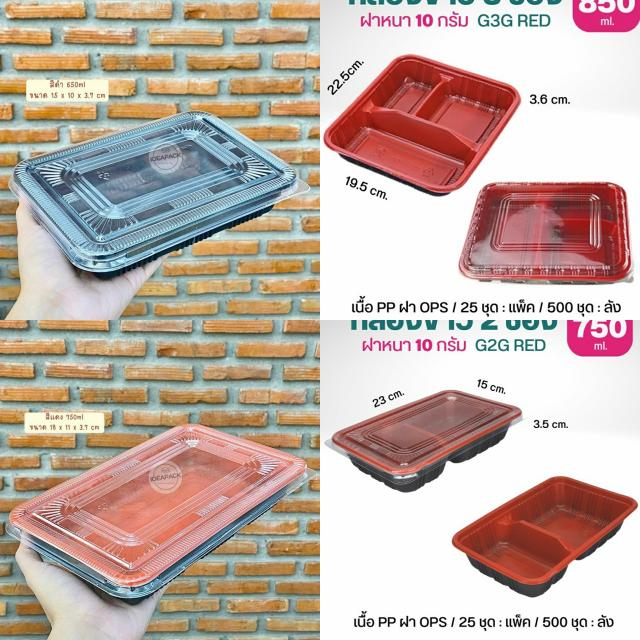Single-Use-Plastic: (9, 425, 314, 600), (10, 111, 309, 277), (324, 55, 520, 195), (454, 476, 638, 596), (330, 390, 521, 491), (459, 182, 632, 283)
